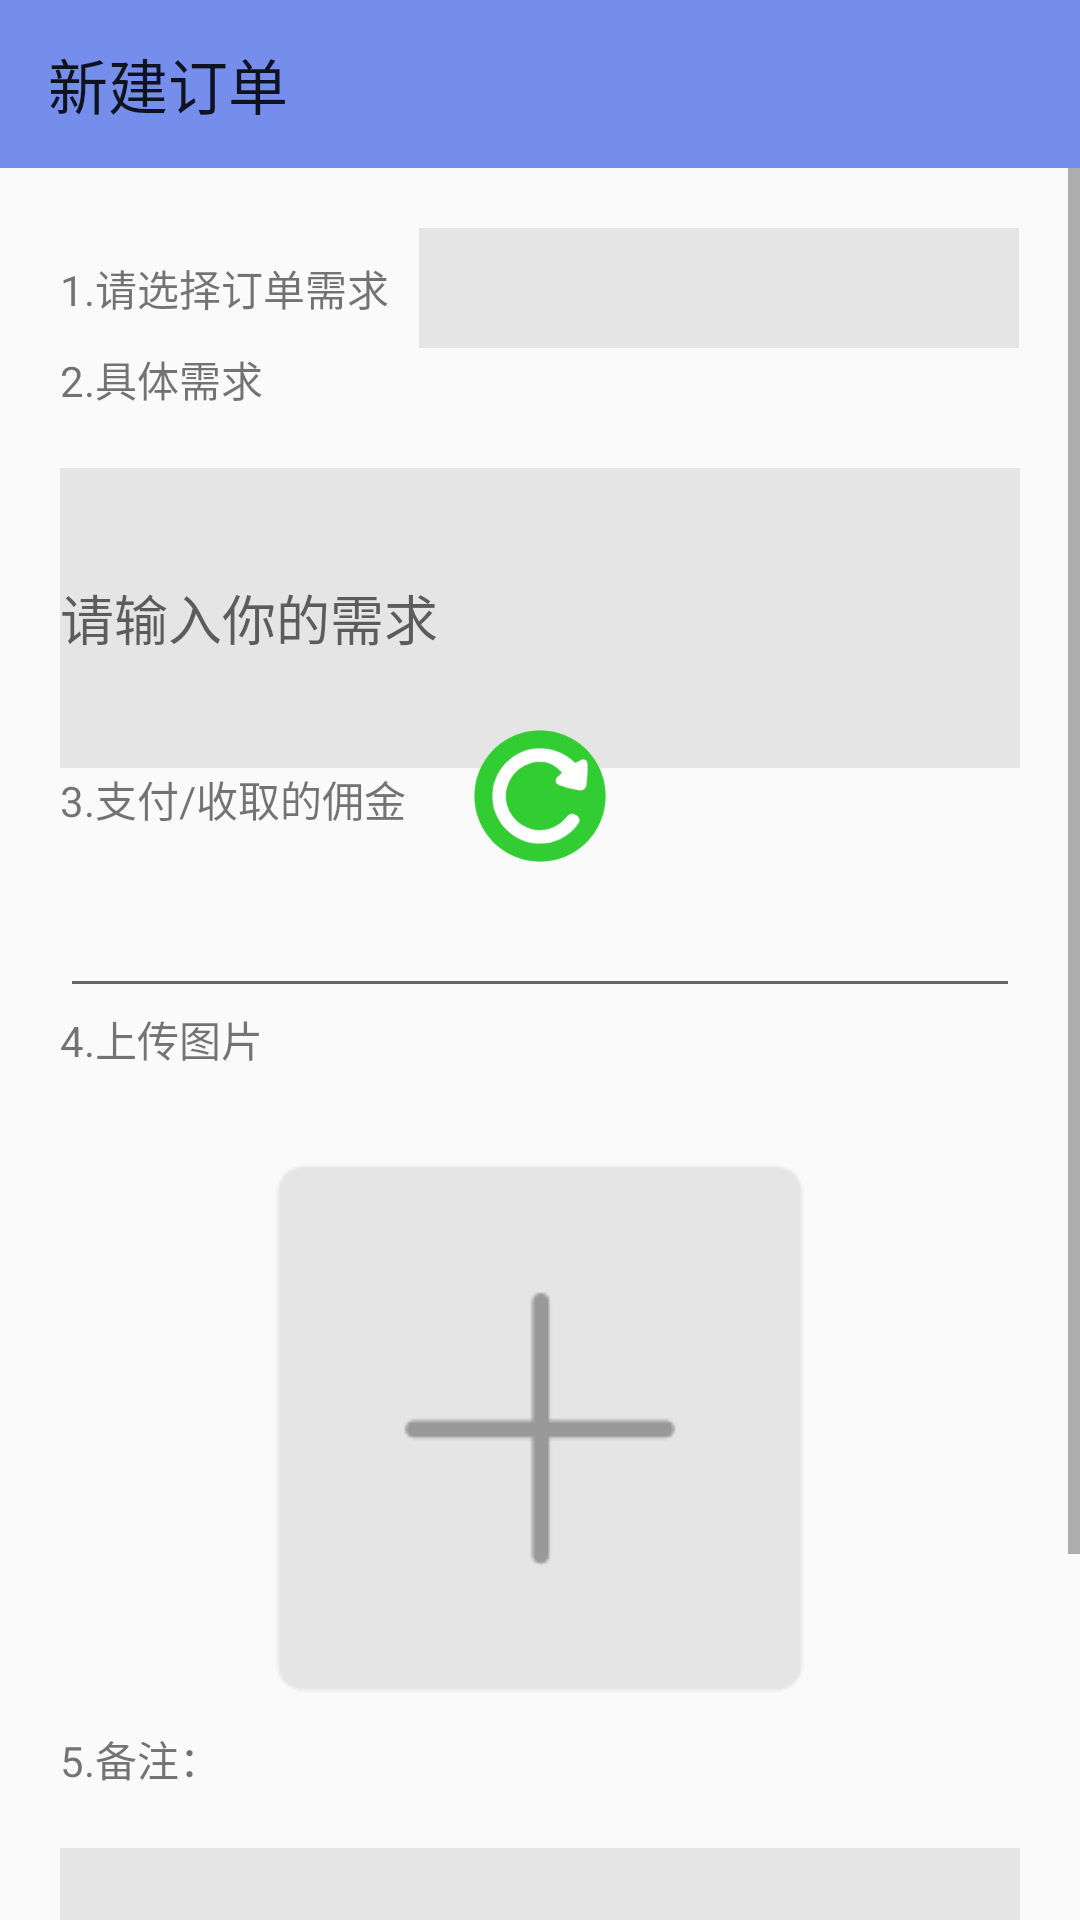

Where to tap for icons on this 1080x1920 app screen, as (x,y):
loading: (540,796)
